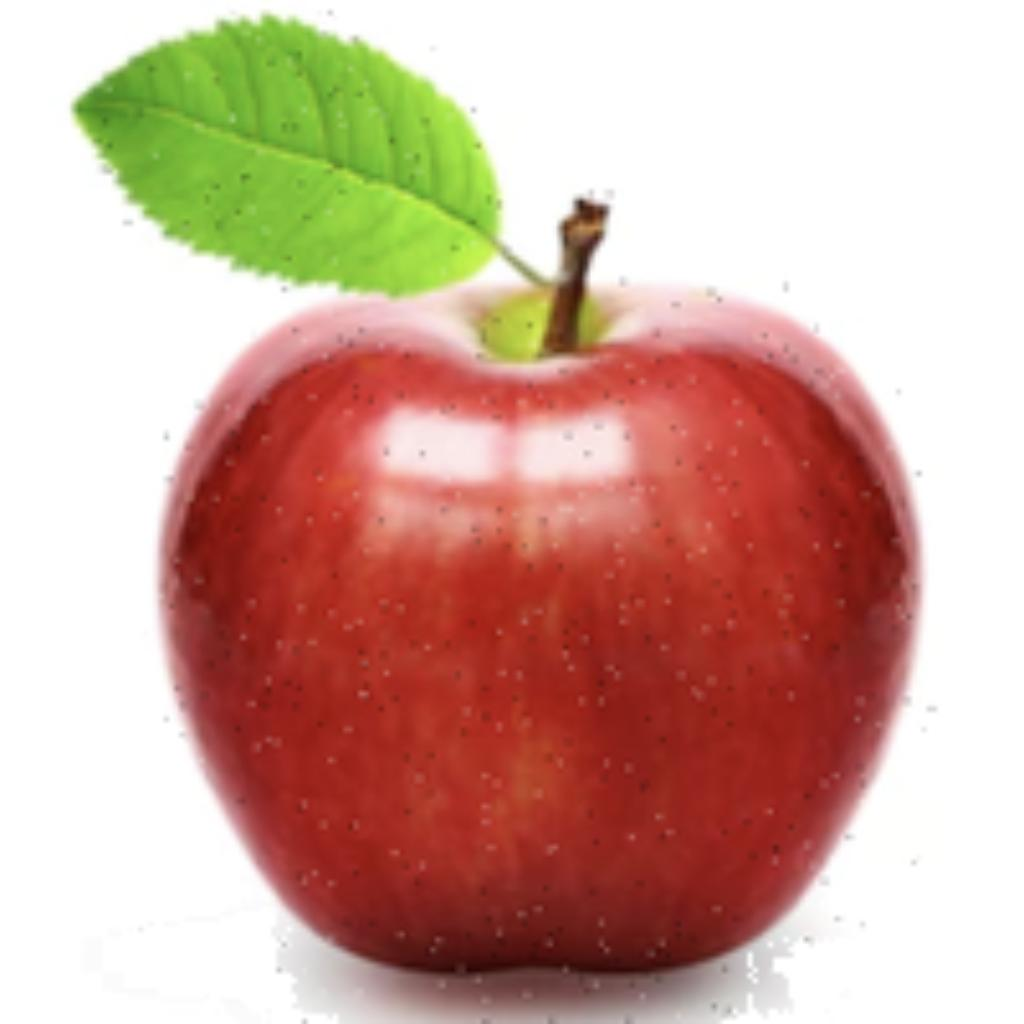apple: (61, 5, 927, 1019)
